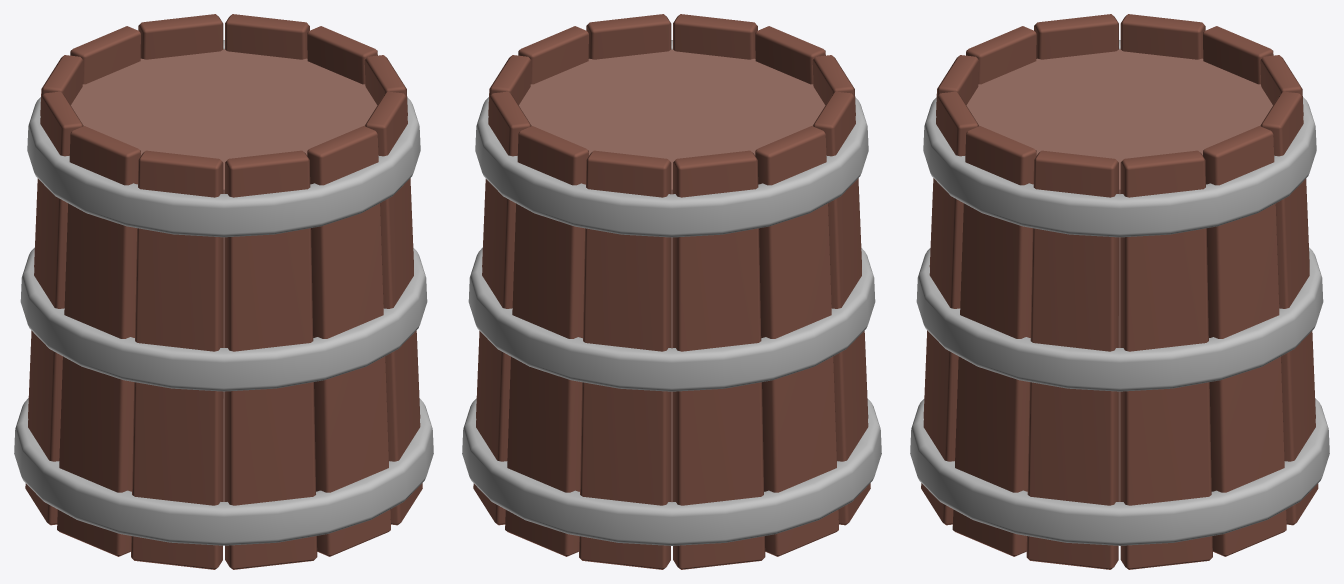
The model's file is Farm_14_Barrel_1.glb.
The picture shows the model from 3 angles, left to right: view 1: azimuth 30°, elevation 25°; view 2: azimuth 150°, elevation 25°; view 3: azimuth 270°, elevation 25°; orthographic projection.
Parts seen in each view (by area): view 1: Farm_14_Barrel_1; view 2: Farm_14_Barrel_1; view 3: Farm_14_Barrel_1.
Boxes of the visible parts, <box> form: Farm_14_Barrel_1: <box>14,14,433,569</box>; Farm_14_Barrel_1: <box>462,14,881,569</box>; Farm_14_Barrel_1: <box>910,14,1329,569</box>.
Size of the model in its own units: 0.8921 by 0.9328 by 0.8921.
1 material, 1 textured.
